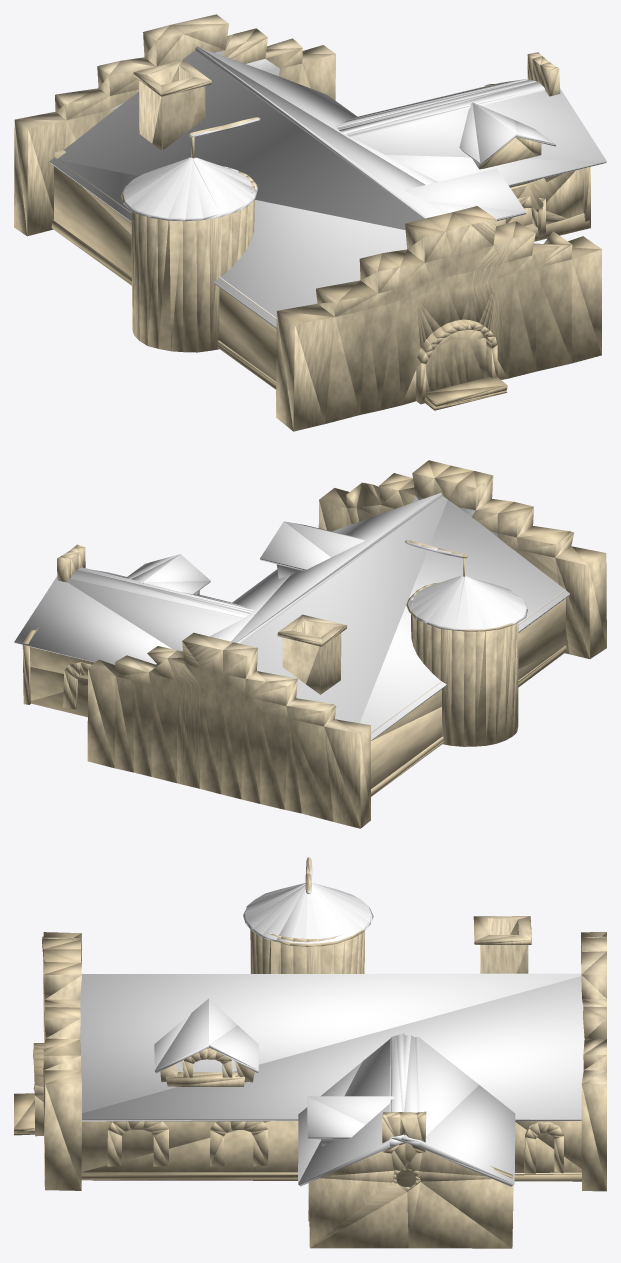
Rendered from castle.4.glb.
3 views of the same model, one above another, from view 1: azimuth 30°, elevation 25°; view 2: azimuth 150°, elevation 25°; view 3: azimuth 270°, elevation 25° (orthographic). The views are drawn at different scales.
Parts seen in each view (by area): view 1: castle; view 2: castle; view 3: castle.
Boxes of the visible parts, x1=… form: castle: x1=14, y1=14, x2=606, y2=431; castle: x1=14, y1=460, x2=606, y2=828; castle: x1=14, y1=857, x2=606, y2=1248.
Size of the model in its own units: 2.69 by 1.06 by 2.9.
Materials: 2 (1 with a texture image).
